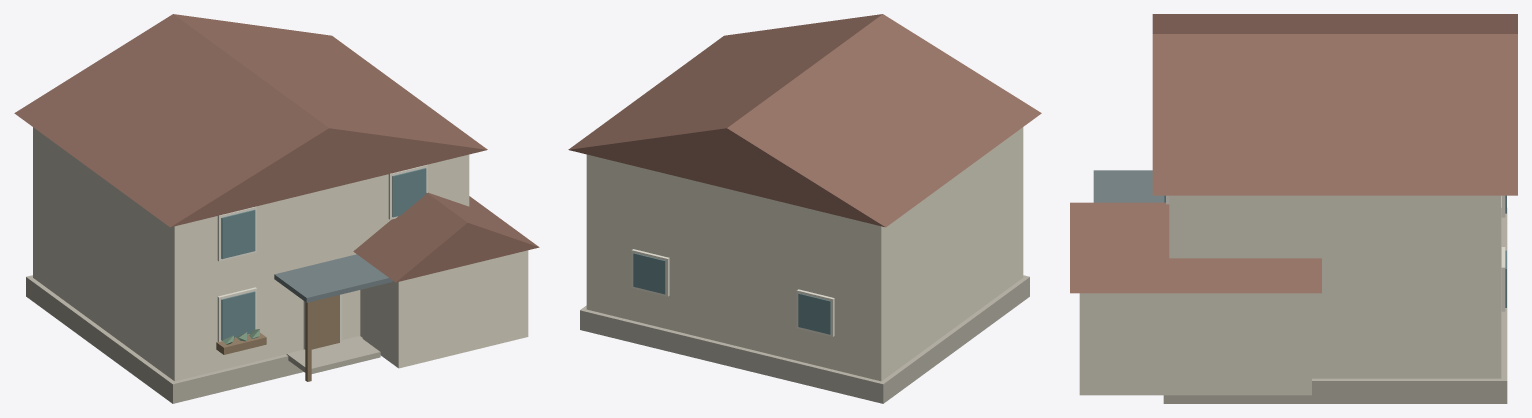
The picture shows the model from 3 angles, left to right: view 1: azimuth 30°, elevation 25°; view 2: azimuth 150°, elevation 25°; view 3: azimuth 270°, elevation 25°; orthographic projection. The views are drawn at different scales.
Bounding box in the file's own units: 11.56 × 8 × 11.47.
